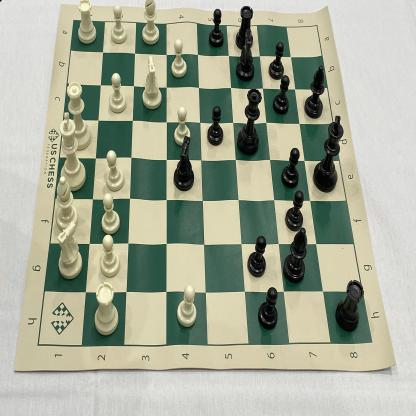black-bishop: (282, 228, 309, 284), (304, 63, 327, 120)
black-king: (313, 112, 344, 195)
black-knight: (172, 134, 195, 192), (234, 29, 257, 82)
black-pawn: (246, 234, 268, 281), (258, 285, 279, 332), (283, 190, 306, 231), (271, 75, 290, 117), (281, 146, 300, 188), (205, 106, 223, 146), (267, 40, 285, 79), (207, 7, 224, 47)
black-queen: (238, 87, 261, 156)
black-rook: (333, 275, 364, 335), (234, 2, 255, 50)
white-bishop: (53, 175, 78, 230), (140, 0, 161, 45)
white-king: (57, 111, 87, 193)
white-knight: (54, 218, 83, 278), (140, 55, 162, 109)
white-pawn: (175, 282, 197, 326), (99, 233, 120, 277), (168, 36, 188, 80), (103, 149, 124, 190), (100, 194, 121, 234), (172, 105, 191, 147), (108, 71, 127, 113), (109, 2, 127, 46)
white-queen: (63, 80, 93, 152)
white-rook: (92, 280, 120, 338), (75, 0, 99, 46)
